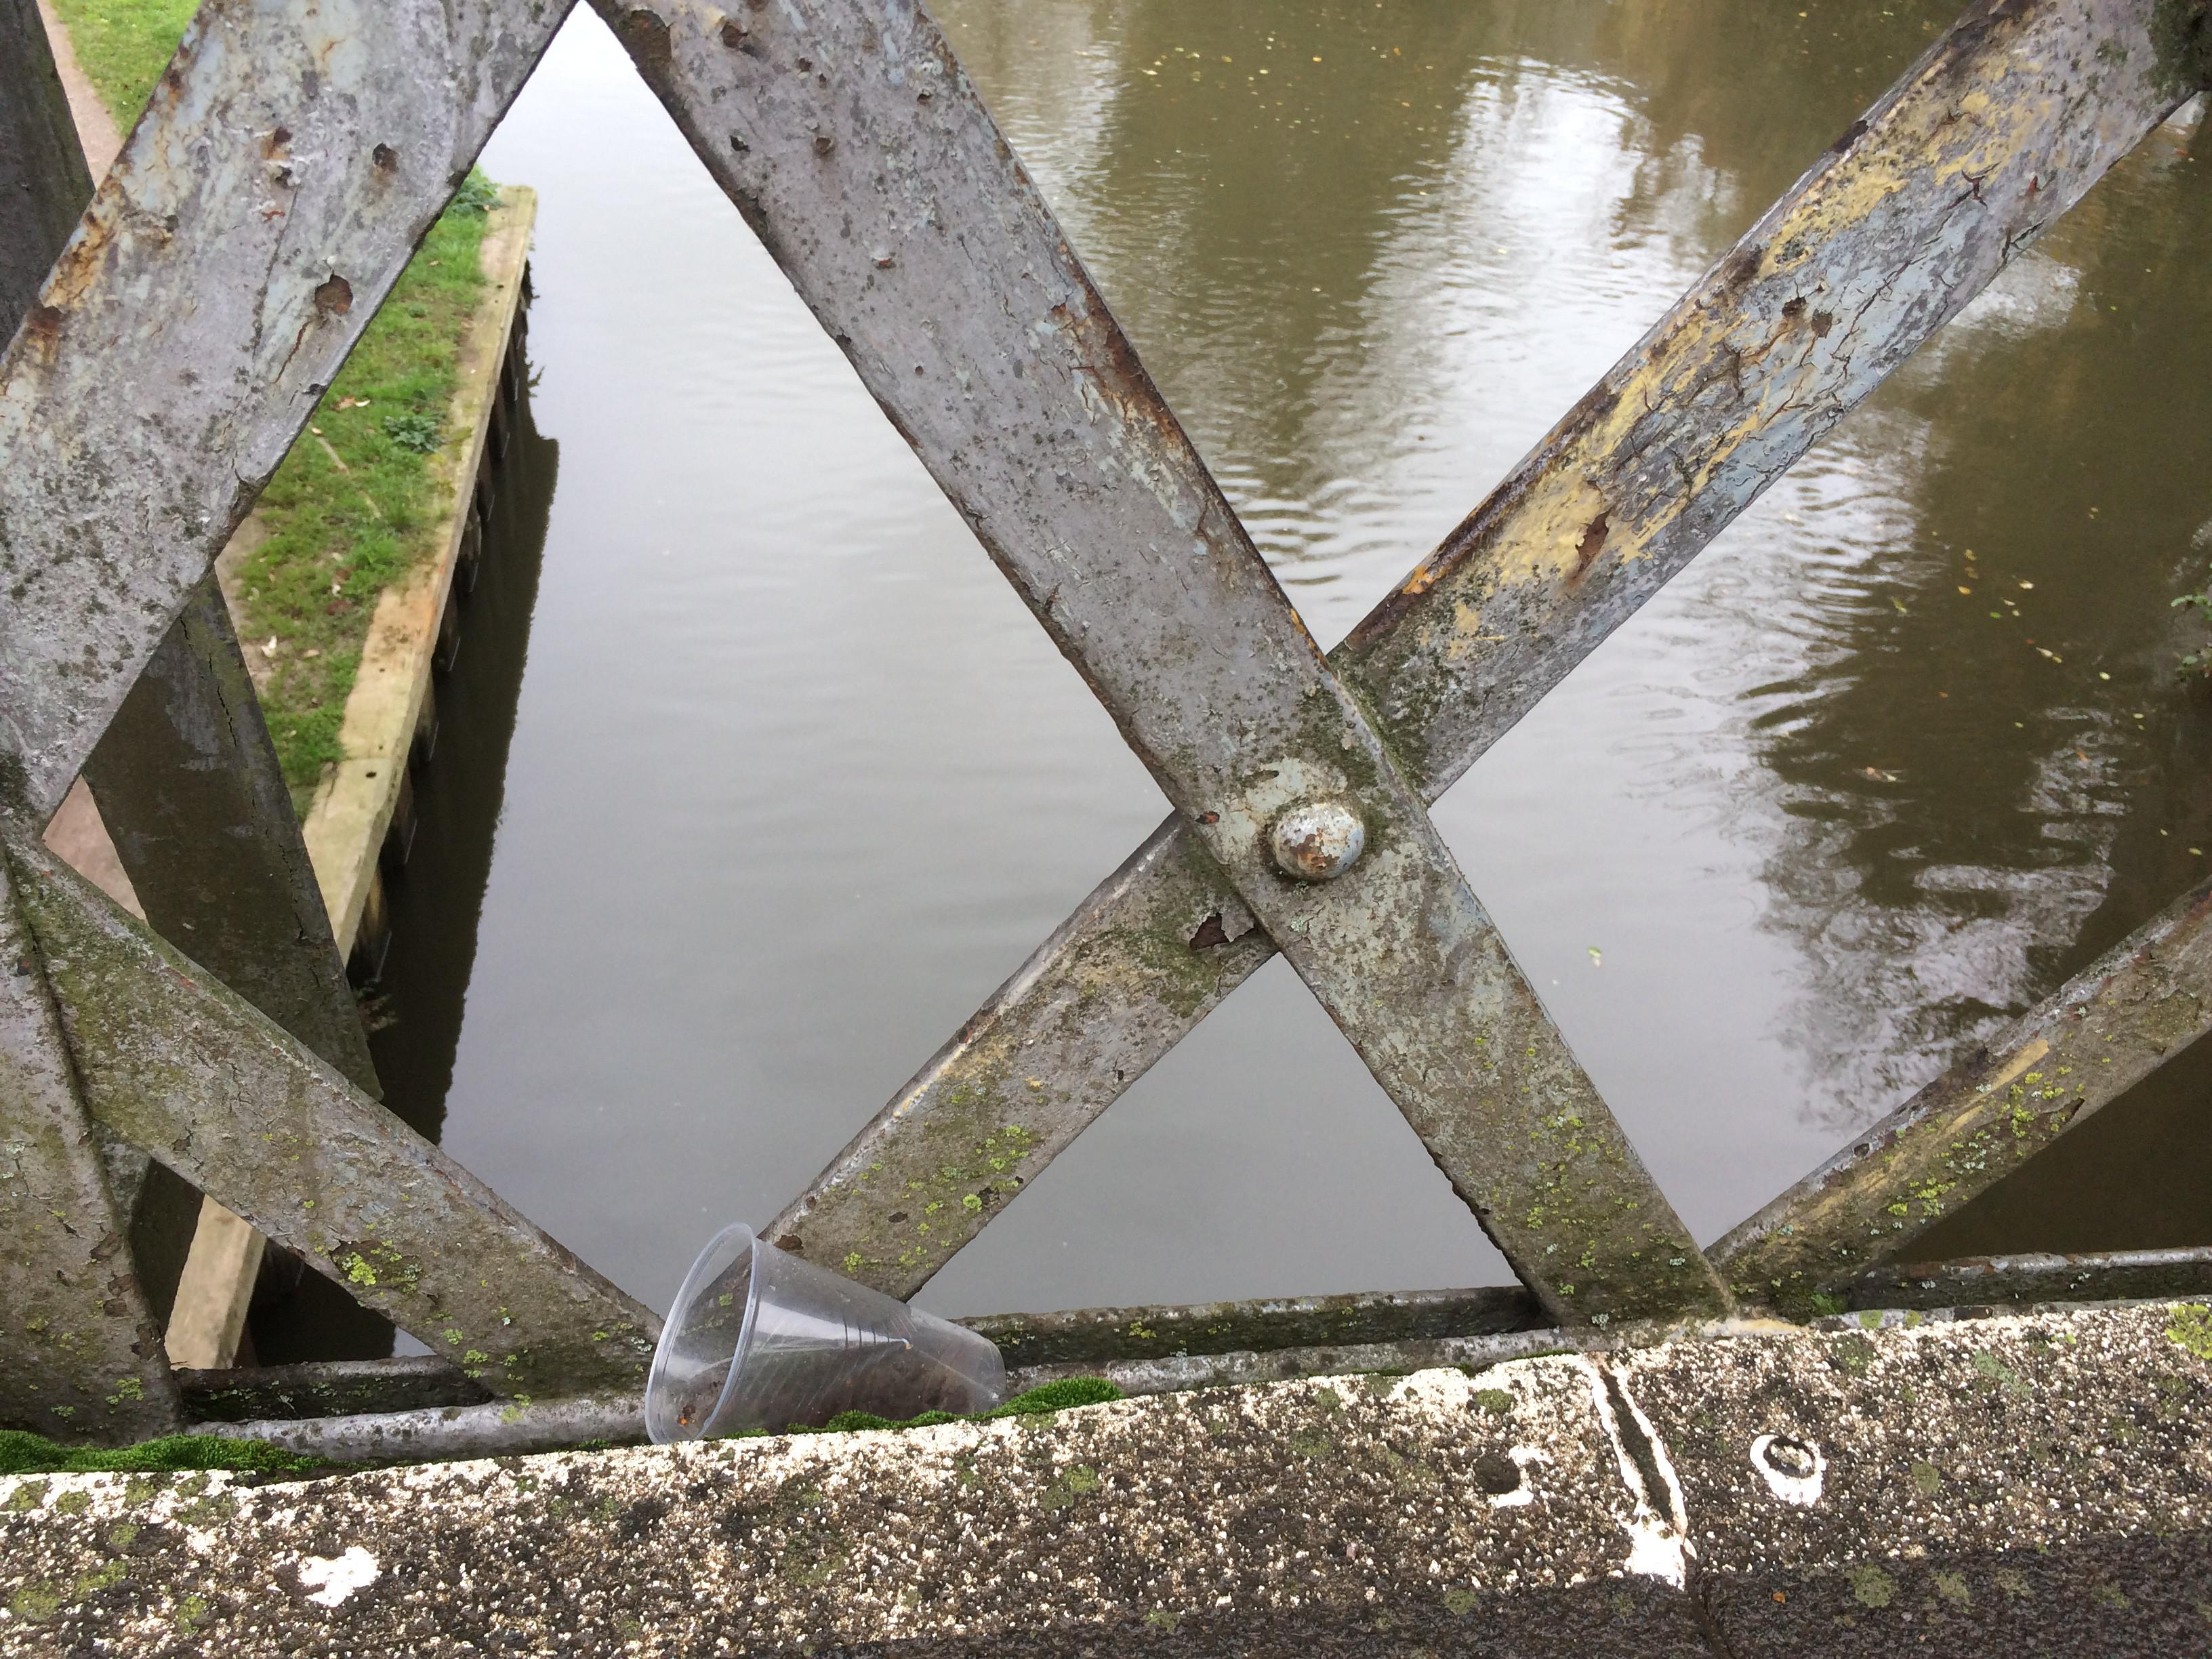Trash: (631, 1220, 1019, 1443)
